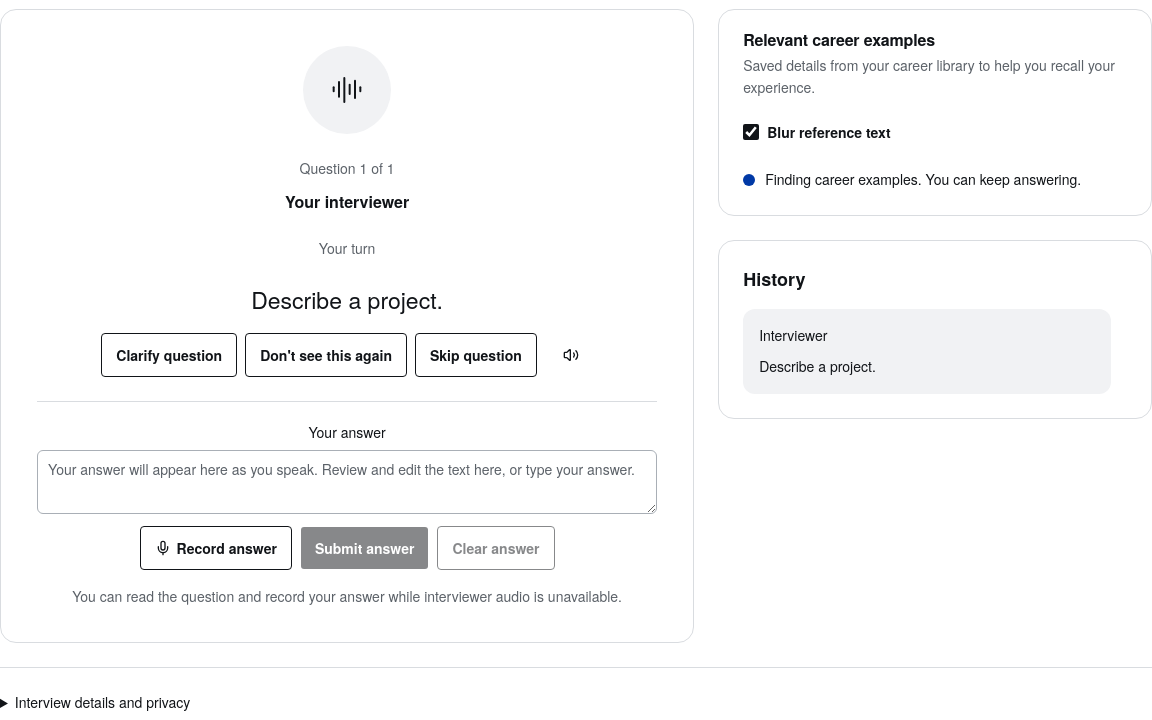
Test: keeps the real microphone running while typing and continues filling new words
(page scrolled)
Click the button "Record answer" at (216, 548), box [140, 526, 292, 570]
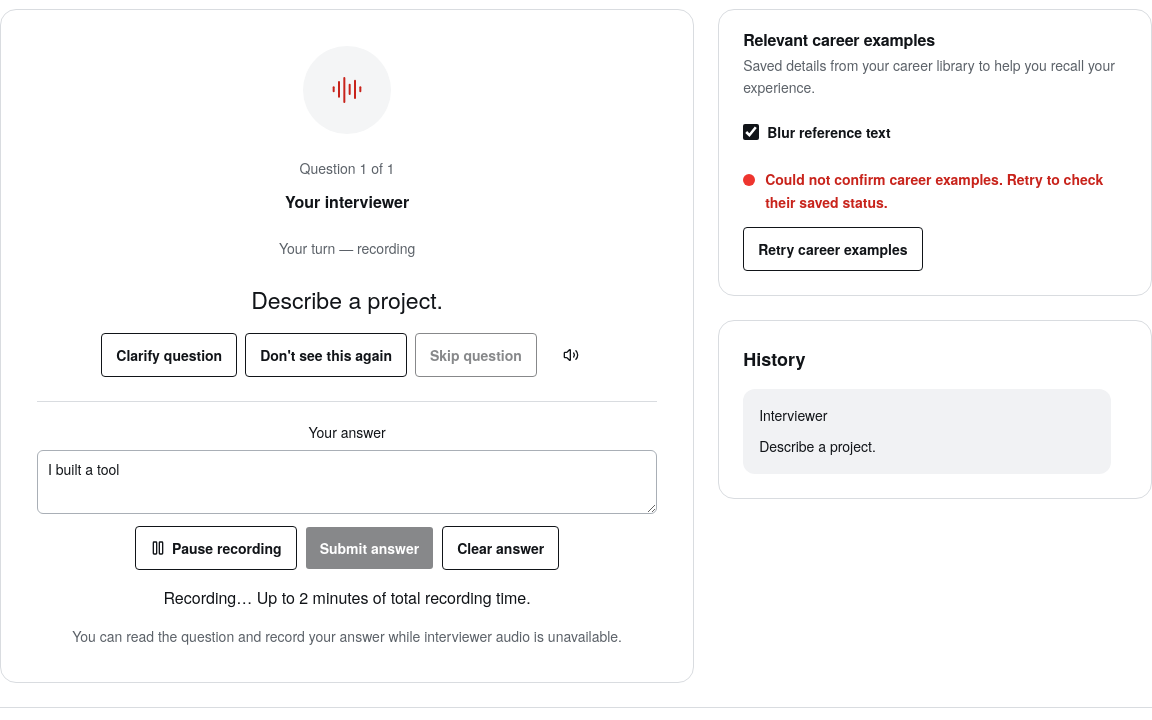
Check: the button "Pause recording" is shown, box [135, 526, 297, 570]
Check: the text box labelled "Your answer" holds "I built a tool"
Replace the text in the text box labelled "Your answer" with "I designed a scheduling tool" at (347, 482), box [37, 450, 657, 514]
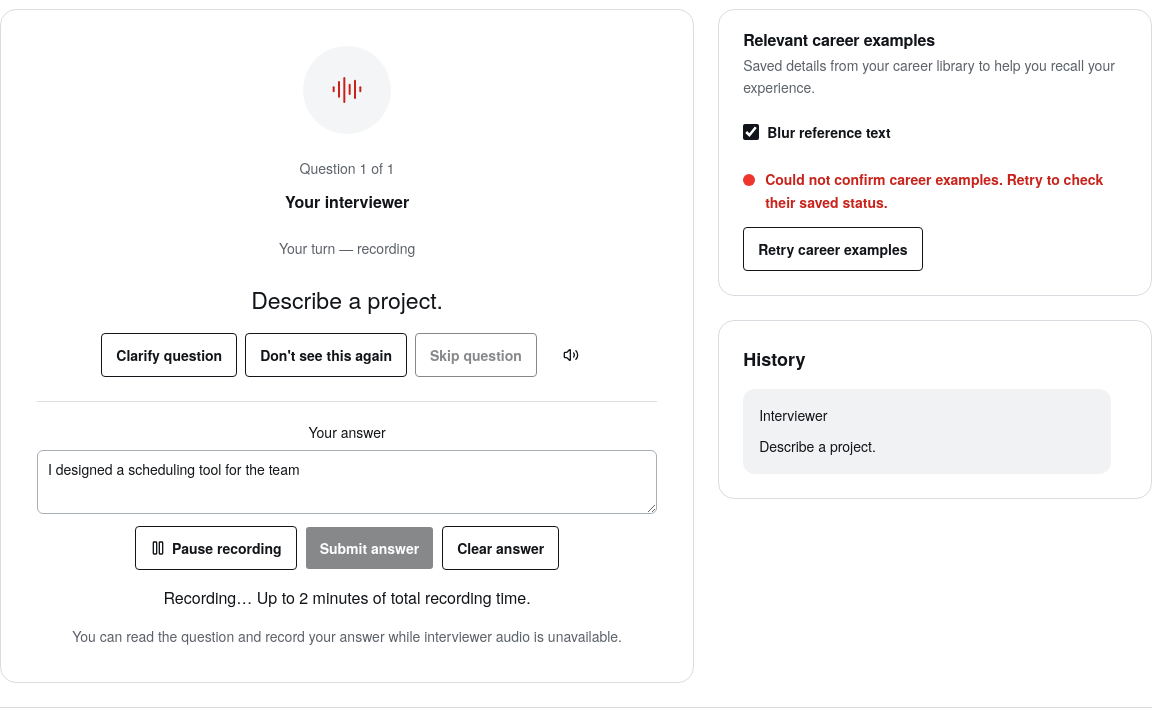
Check: the text box labelled "Your answer" holds "I designed a scheduling tool for the team", box [37, 450, 657, 514]
Click the button "Pause recording" at (216, 548), box [135, 526, 297, 570]
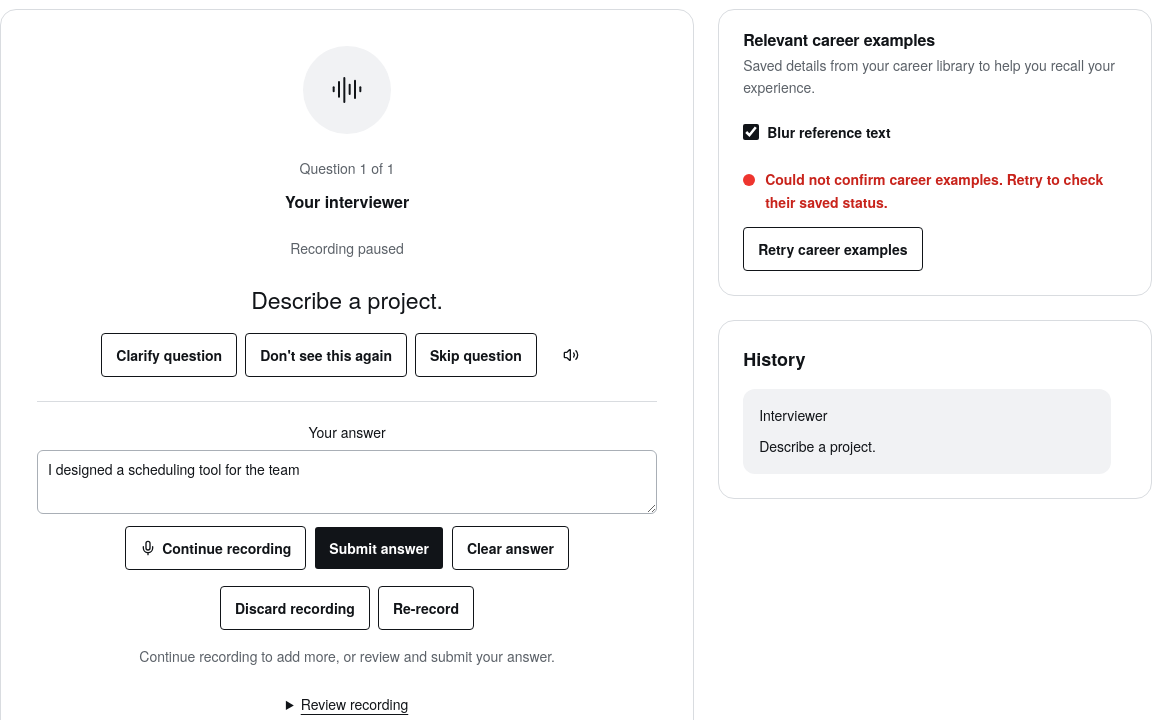
Click the button "Continue recording" at (216, 548), box [125, 526, 306, 570]
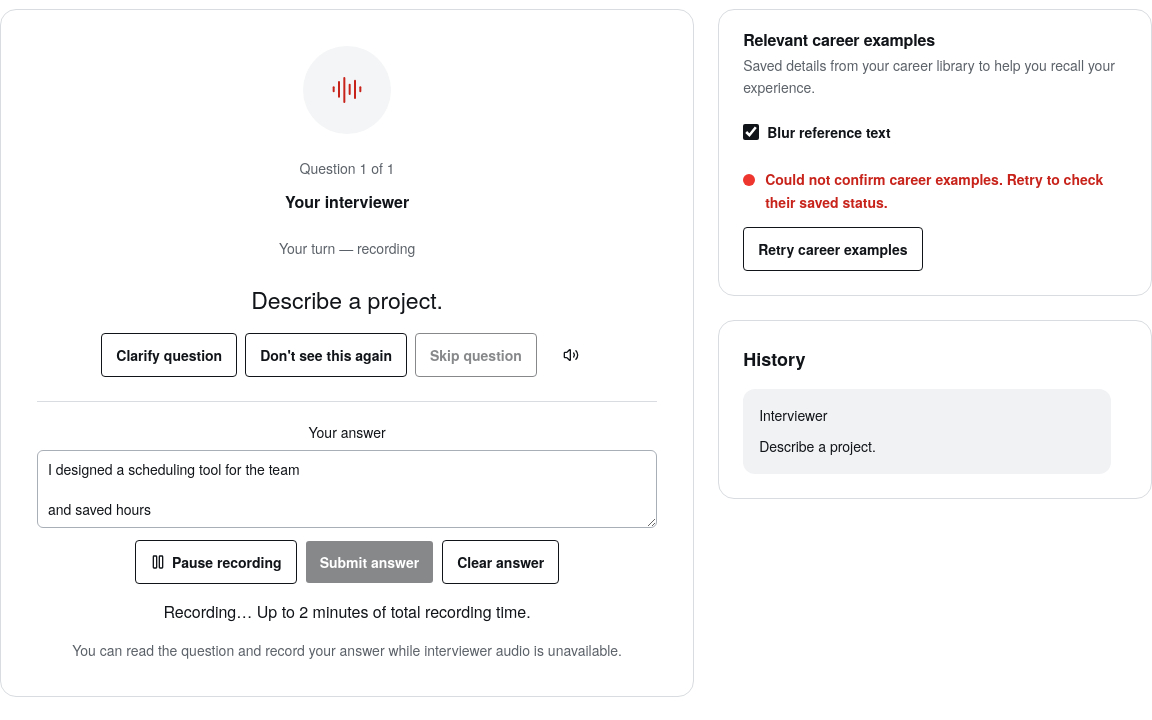
Check: the button "Pause recording" is shown, box [135, 540, 297, 584]
